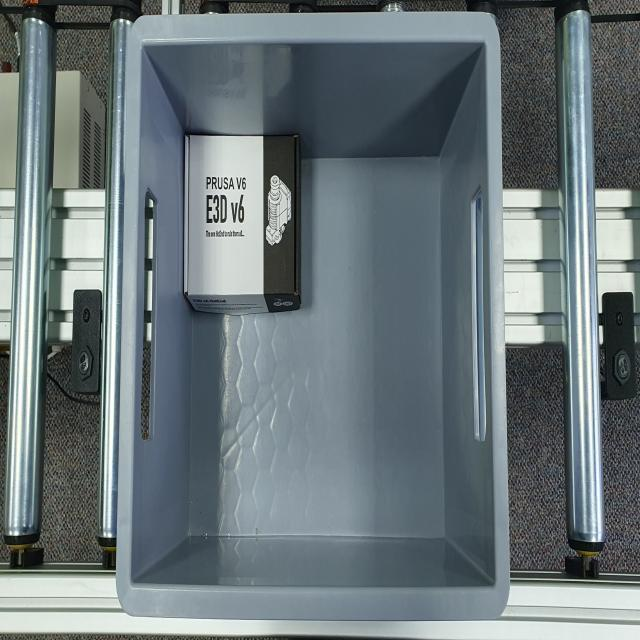box: (183, 127, 302, 312)
